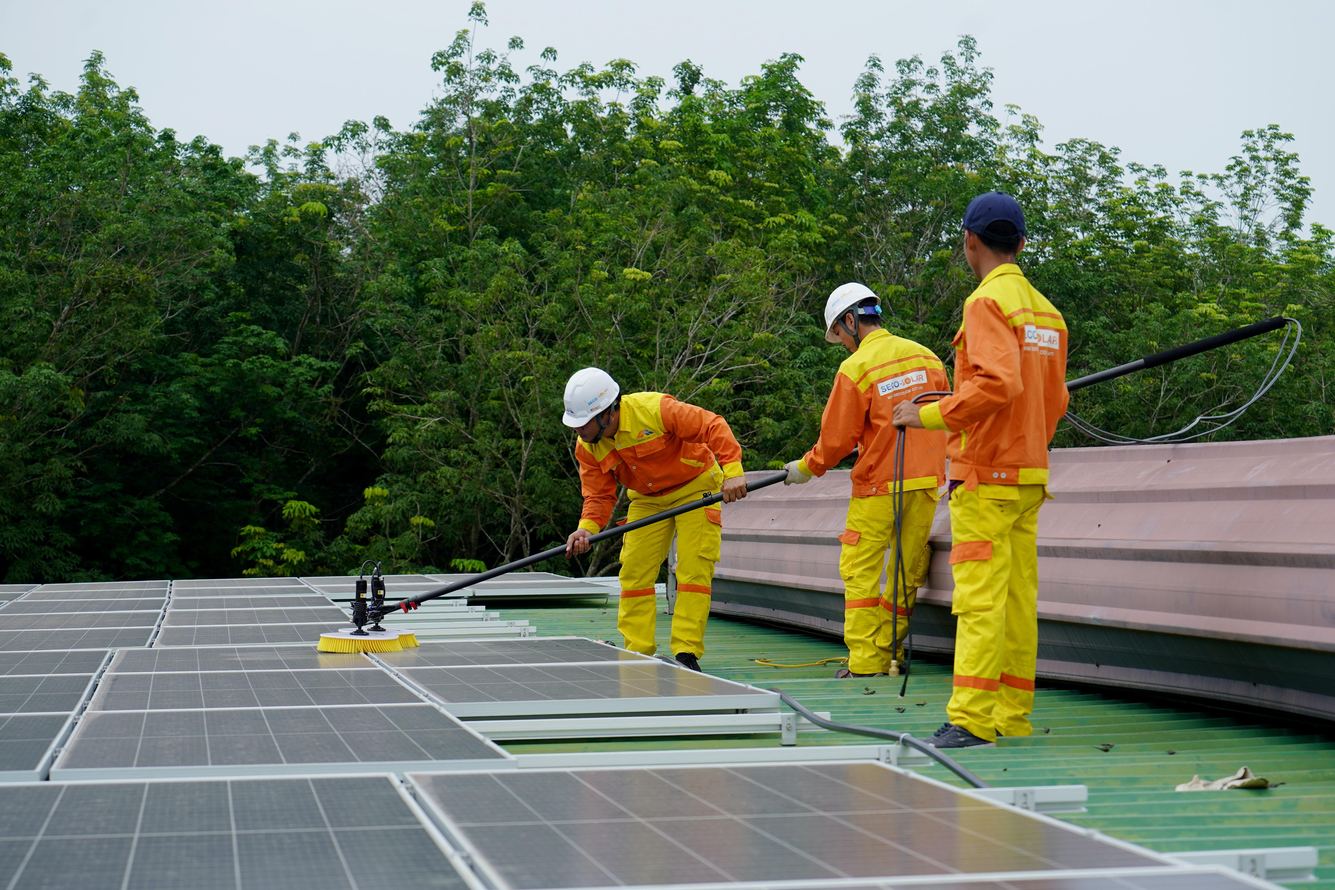Helmet: (546, 365, 628, 426)
